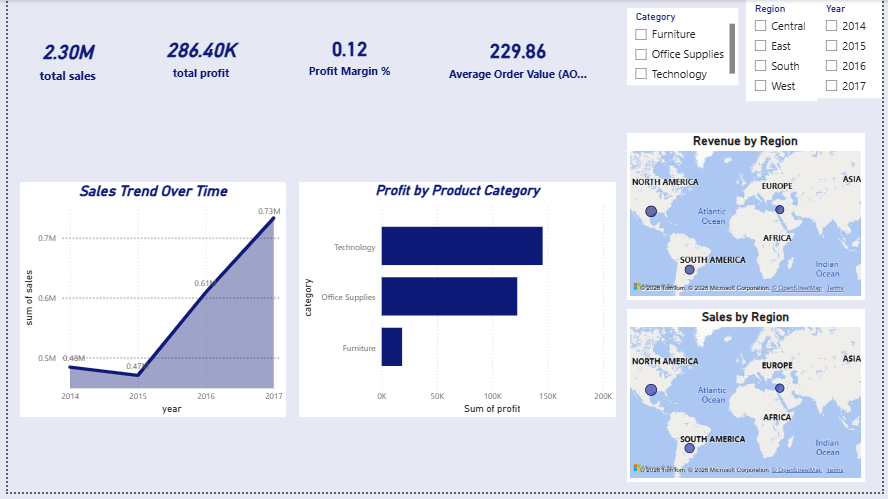

The dashboard page shown, as its layout file describes it:
{"tool":"powerbi","page":{"name":"Page 1","canvas":[1280,720],"ordinal":0},"visuals":[{"type":"card","fields":{"Values":["Sum(fact_sales.sales)"]},"box":[0,11.7,174.1,147.8],"z":0},{"type":"card","fields":{"Values":["Sum(fact_sales.profit)"]},"box":[185.9,4.4,193.2,155.1],"z":1000},{"type":"card","fields":{"Values":["fact_sales.Marge %"]},"box":[392.2,0,215.1,159.5],"z":2000},{"type":"card","fields":{"Values":["fact_sales.AOV"]},"box":[639.5,19,213.7,128.8],"z":3000},{"type":"lineChart","title":"Sales Trend Over Time","fields":{"Category":["dim_date.year"],"Y":["Sum(fact_sales.sales)"]},"box":[20.5,234.1,389.3,370.2],"z":4000},{"type":"clusteredBarChart","title":"Profit by Product Category","fields":{"Category":["dim_product.category"],"Y":["Sum(fact_sales.profit)"]},"box":[427.3,304.4,463.9,269.3],"z":5000},{"type":"map","title":"Revenue by Region","fields":{"Category":["dim_region.region"],"Size":["Sum(fact_sales.sales)"]},"box":[905.9,194.6,346.8,244.4],"z":6000},{"type":"slicer","fields":{"Values":["dim_date.year"]},"box":[1184.3,0,95.7,144.5],"z":7000},{"type":"slicer","fields":{"Values":["dim_region.region"]},"box":[1080.1,0,104.1,147.8],"z":8000},{"type":"slicer","fields":{"Values":["dim_product.category"]},"box":[905.4,11.8,162.9,112.5],"z":9000},{"type":"map","title":"Sales by Region","fields":{"Category":["dim_region.region"],"Size":["Sum(fact_sales.sales)"]},"box":[905.9,452.2,346.8,251.7],"z":10000}]}

Visuals, with their boxes in screenshot pixels (x1, y1, x2, y2), scaled from the page's 1280x720 canvas onto the 888x499 screenshot:
card - Sum(fact_sales.sales): (left=0, top=8, right=121, bottom=111)
card - Sum(fact_sales.profit): (left=129, top=3, right=263, bottom=111)
card - fact_sales.Marge %: (left=272, top=0, right=421, bottom=111)
card - fact_sales.AOV: (left=444, top=13, right=592, bottom=102)
"Sales Trend Over Time" lineChart: (left=14, top=162, right=284, bottom=419)
"Profit by Product Category" clusteredBarChart: (left=296, top=211, right=618, bottom=398)
"Revenue by Region" map: (left=628, top=135, right=869, bottom=304)
slicer - dim_date.year: (left=822, top=0, right=887, bottom=100)
slicer - dim_region.region: (left=749, top=0, right=822, bottom=102)
slicer - dim_product.category: (left=628, top=8, right=741, bottom=86)
"Sales by Region" map: (left=628, top=313, right=869, bottom=488)
